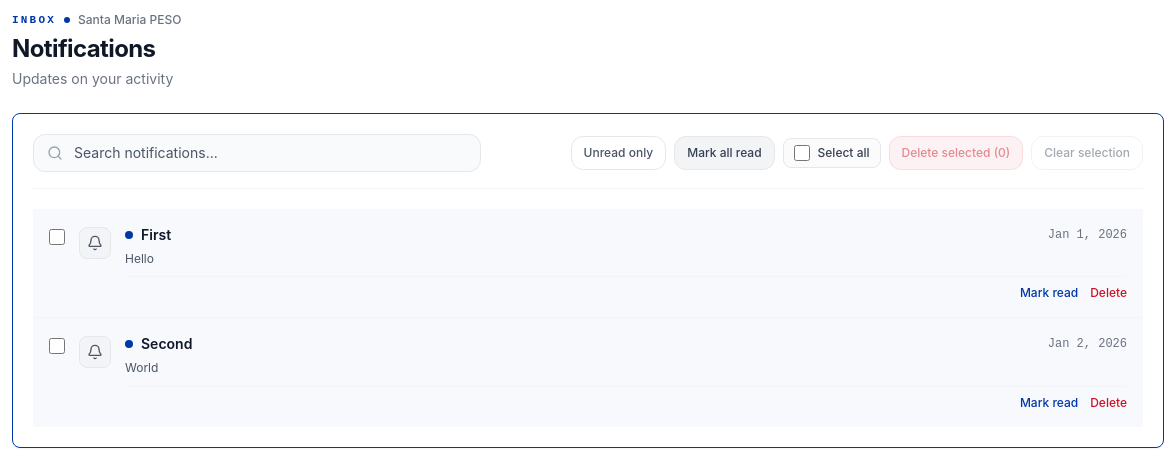
Test: NotificationsPage delete › select checkbox enables Delete selected
The width and height of the screenshot is (1164, 465).
Expected: the text "First" is shown, [141,224,171,244]
Expected: the button "Delete selected (0)" is disabled, [888,136,1023,170]
Click the checkbox named "Select notification First". click: (57, 236)
box: [49,228,65,244]
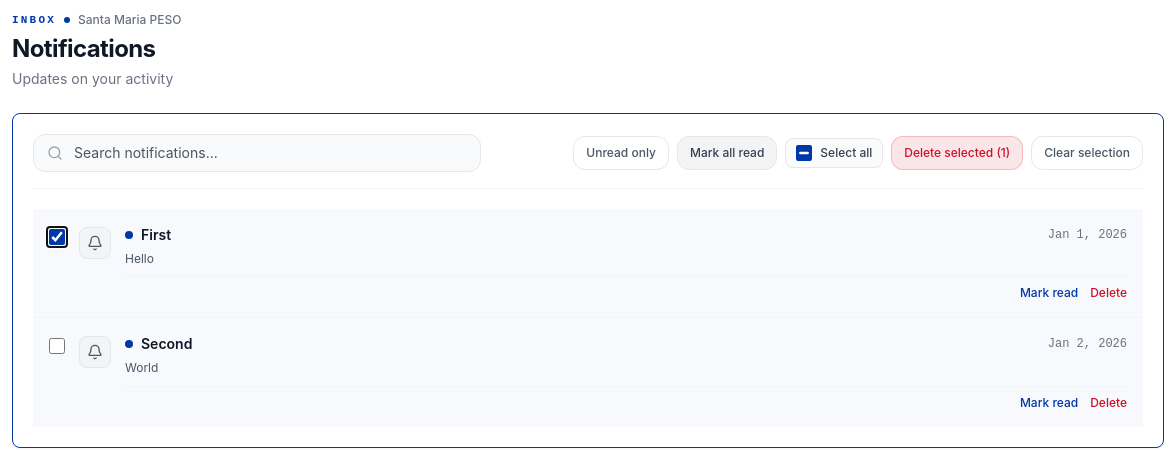
Expected: the button "Delete selected (1)" is enabled, [891,136,1023,170]
